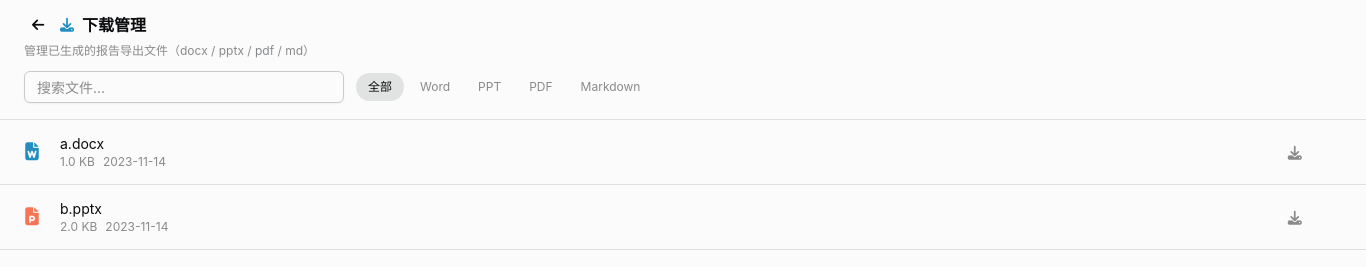
Test: 下载中心动效降级（add-download-center Task 4） › 非 reduced-motion：首挂载 stagger 入场被调度，筛选切回不重播入场动画
Check: the number of list items with test id "download-row" is 2, box [0, 120, 1365, 185]; [0, 185, 1365, 250]
Click the button with test id "filter-tab-docx". click: (435, 87)
box: [408, 73, 462, 101]
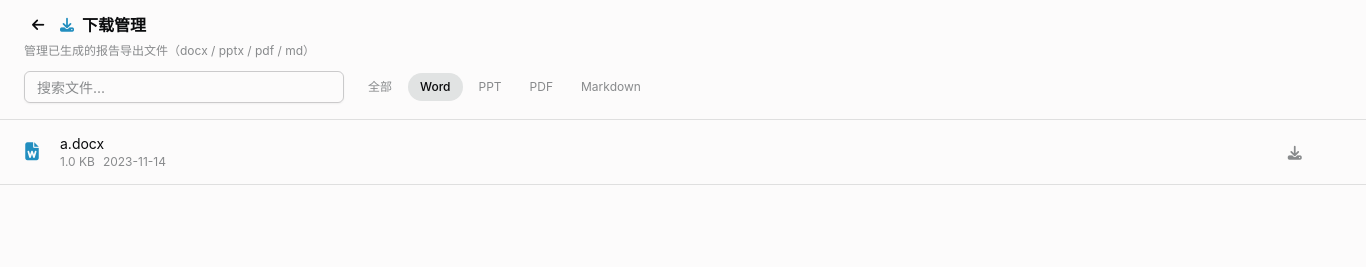
Check: the number of list items with test id "download-row" is 1, box [0, 120, 1365, 185]
Click the button with test id "filter-tab-all". click: (380, 87)
box: [356, 73, 404, 101]
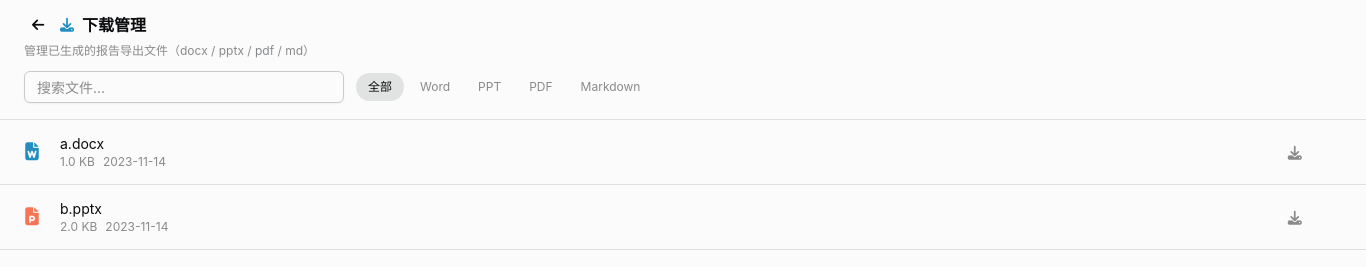
Check: the number of list items with test id "download-row" is 2, box [0, 120, 1365, 185]; [0, 185, 1365, 250]
